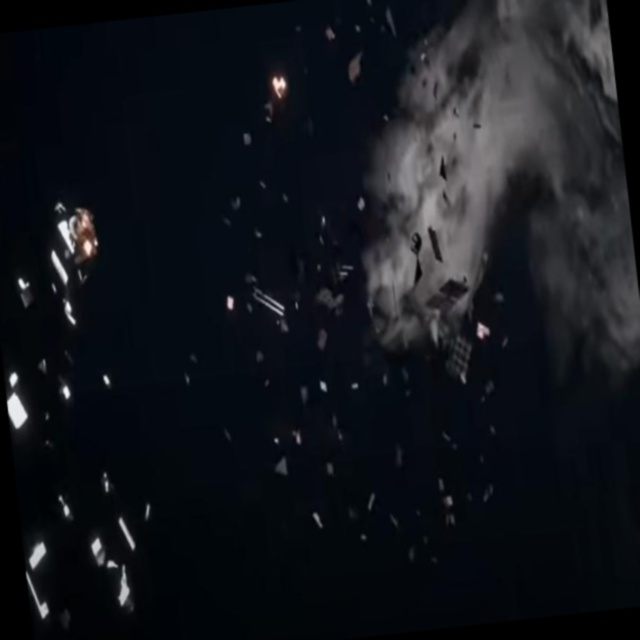large_debris: (39, 183, 108, 330), (238, 257, 293, 340), (4, 274, 46, 377), (418, 253, 477, 323), (442, 322, 479, 401), (85, 526, 123, 587), (25, 562, 53, 626), (110, 559, 136, 616), (11, 265, 38, 316), (408, 229, 428, 291), (422, 222, 447, 270), (25, 531, 51, 576), (6, 390, 31, 434), (117, 514, 139, 559), (343, 47, 367, 88), (266, 67, 292, 103), (52, 370, 74, 411), (381, 2, 400, 46), (55, 490, 76, 528), (94, 466, 116, 498), (270, 452, 294, 481), (474, 317, 495, 347), (437, 152, 451, 193), (322, 21, 339, 49), (310, 510, 327, 535), (7, 368, 23, 393), (321, 457, 336, 483), (240, 127, 255, 153), (298, 381, 310, 410), (222, 293, 237, 315), (354, 192, 368, 215), (317, 377, 330, 401), (35, 356, 49, 378), (100, 370, 112, 389)
